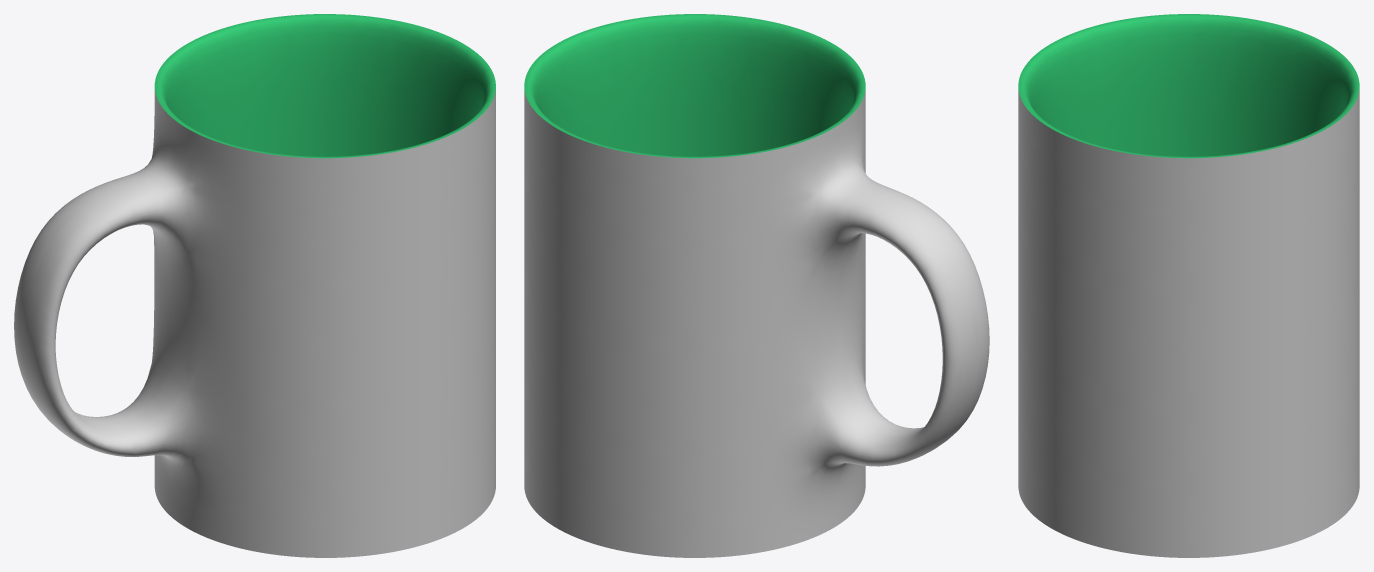
The model's file is mug_gavron.fbx.
3 views of the same model, side by side, from view 1: azimuth 30°, elevation 25°; view 2: azimuth 150°, elevation 25°; view 3: azimuth 270°, elevation 25° (orthographic).
Visible parts, largest first — view 1: Segmentovaný_povrch_1; view 2: Segmentovaný_povrch_1; view 3: Segmentovaný_povrch_1.
Boxes of the visible parts, <box> form: Segmentovaný_povrch_1: <box>14,14,495,557</box>; Segmentovaný_povrch_1: <box>524,14,989,557</box>; Segmentovaný_povrch_1: <box>1018,14,1359,557</box>.
Size of the model in its own units: 11.54 by 10 by 7.74.
